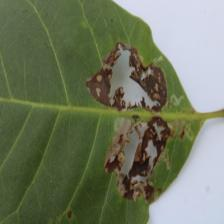leaf miner: (0, 0, 224, 223), (85, 40, 172, 204), (84, 41, 168, 112)
